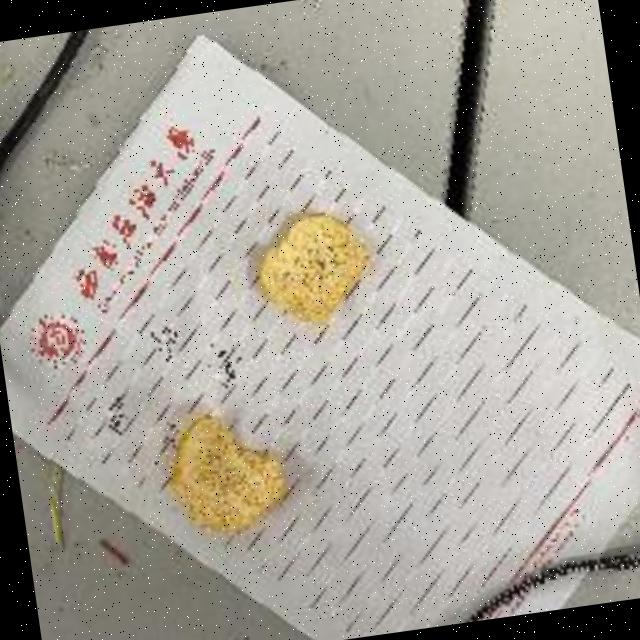orange-peel: (154, 399, 295, 544), (244, 202, 380, 334)
